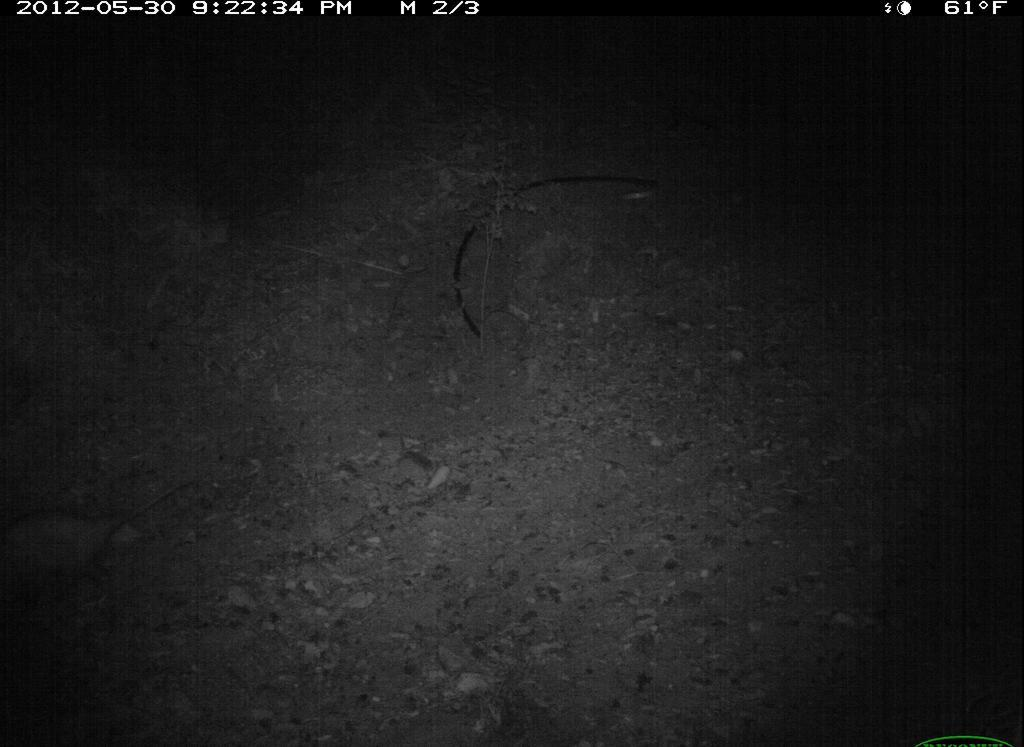opossum: (1, 478, 197, 602)
